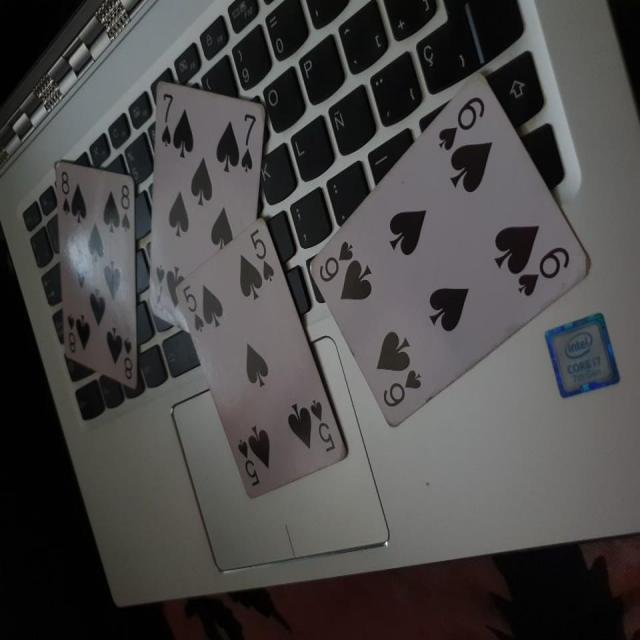5 Spades: (175, 212, 353, 508)
6 Spades: (305, 66, 594, 432)
7 Spades: (140, 81, 272, 336)
8 Spades: (45, 150, 147, 395)
